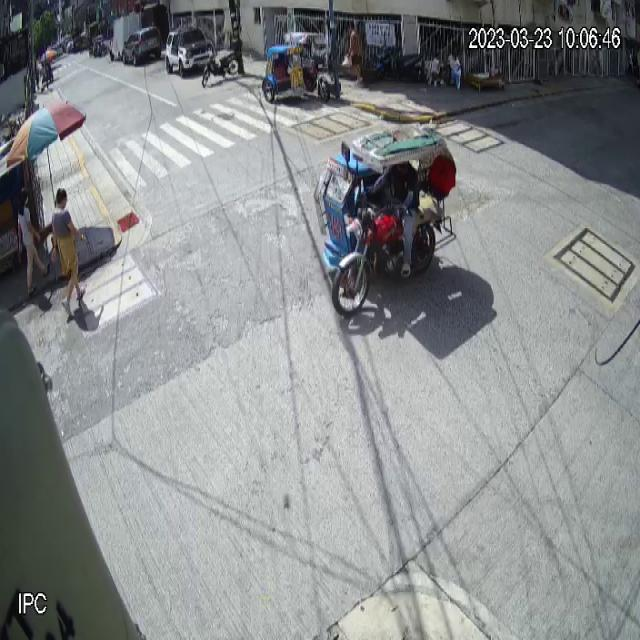Tricycle: (314, 126, 456, 318), (261, 31, 331, 103)
